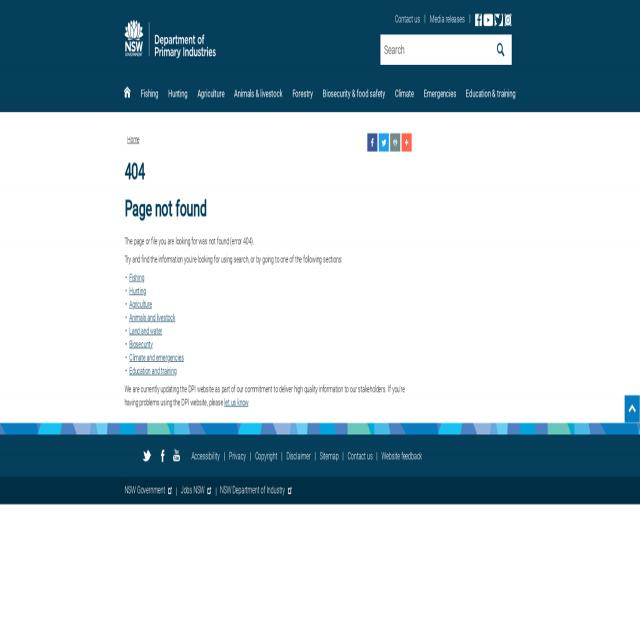button: (124, 19, 216, 60), (319, 79, 389, 112), (462, 79, 520, 112), (230, 79, 286, 112), (420, 79, 460, 112), (194, 79, 228, 112), (164, 79, 192, 112), (289, 79, 317, 111), (391, 79, 418, 112), (138, 79, 162, 112), (121, 79, 135, 112), (474, 14, 512, 26), (624, 394, 640, 422), (401, 134, 412, 152), (368, 134, 378, 152), (379, 134, 389, 151), (391, 134, 400, 151), (158, 449, 167, 464), (143, 449, 151, 464), (173, 449, 181, 464)
field: (381, 34, 512, 65), (497, 43, 504, 56)
